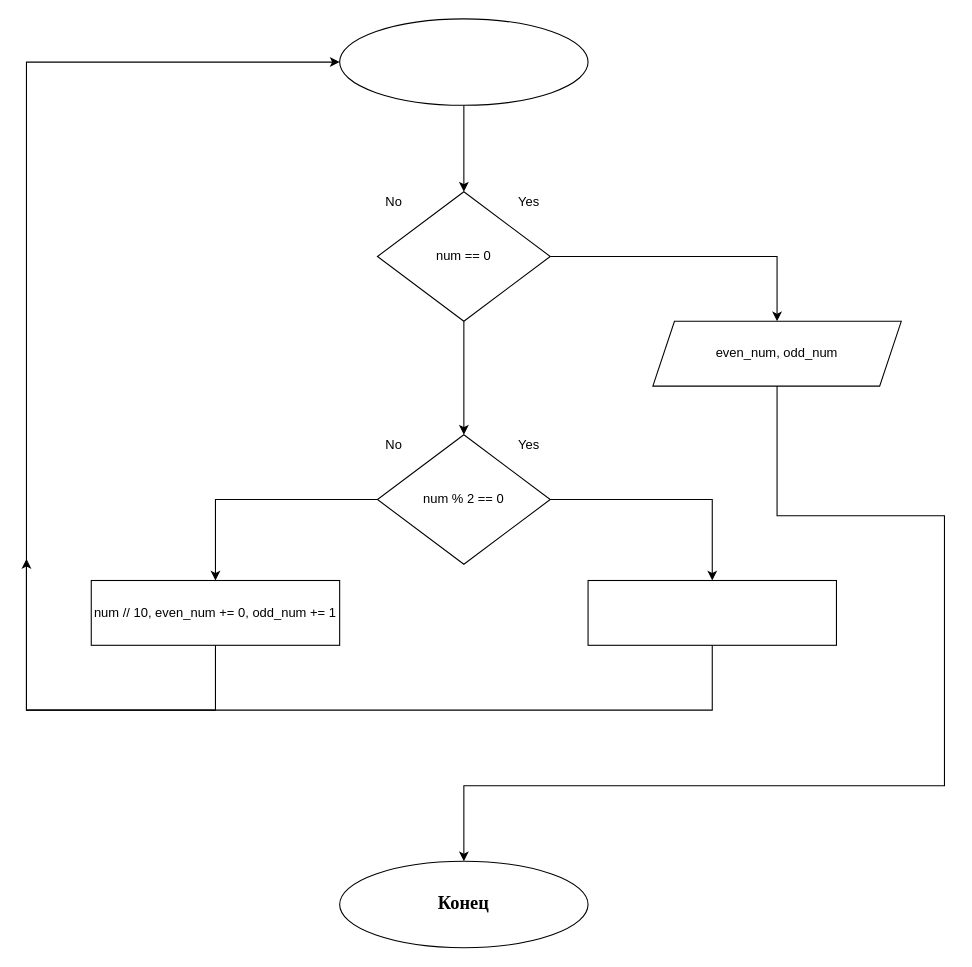
Some shapes in this 972 by 967 pixel diagram are drawn without their labels. The centre of each missing label's shape, as x and y in pixels:
even_odd(num, even_num=0, odd_num=0): (463,61)
num // 10, even_num += 1, odd_num += 0: (711,612)
